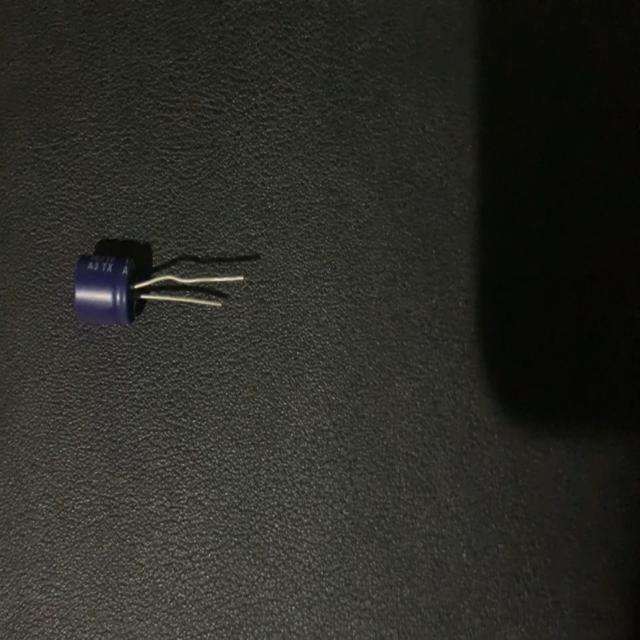capacitor: (70, 246, 248, 332)
